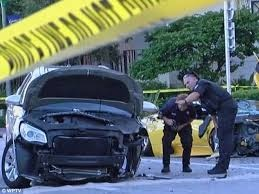Broken-glass: (125, 129, 146, 143)
Smashed: (16, 120, 148, 179)
